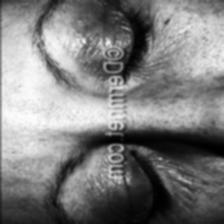Non-Cancerous Skin Condition: (71, 0, 103, 73)
